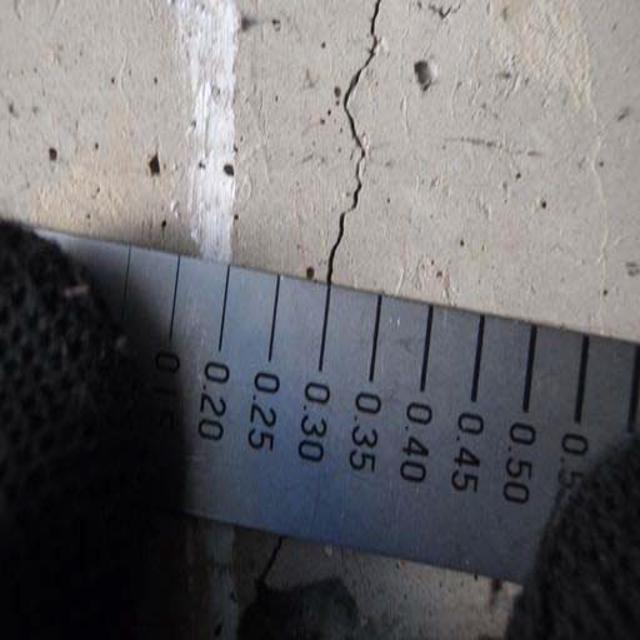crack: (311, 2, 403, 302)
